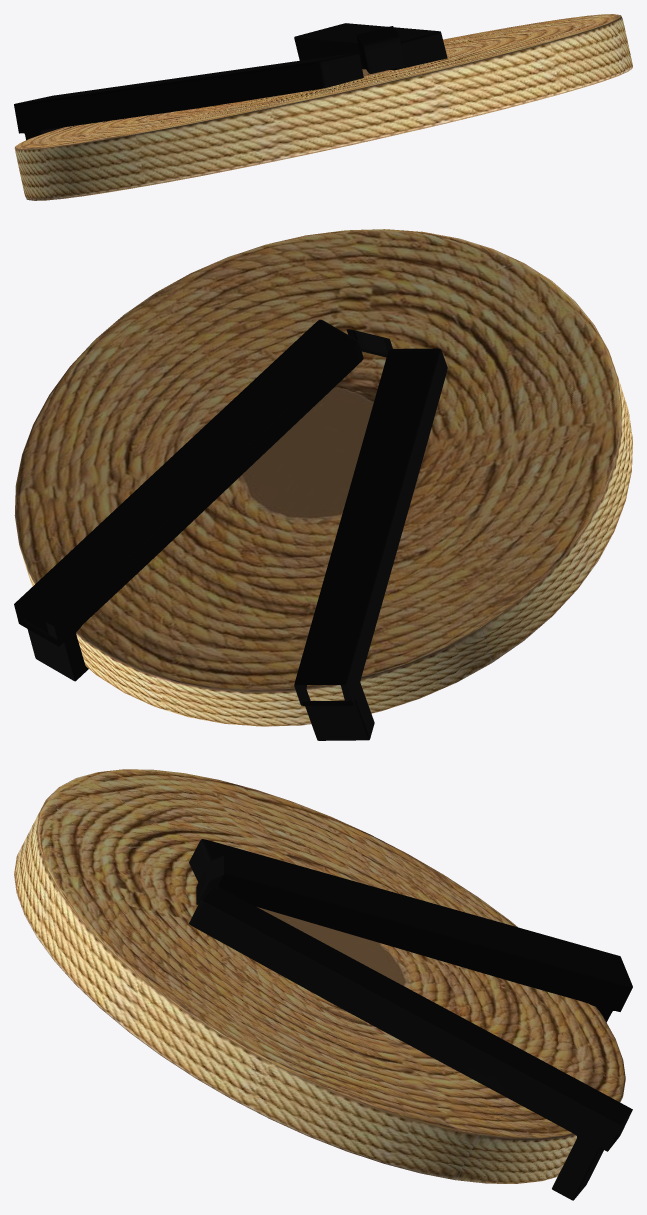
Rendered from Archer_Wood.fbx.
3 views of the same model, one above another, from view 1: azimuth 30°, elevation 25°; view 2: azimuth 150°, elevation 25°; view 3: azimuth 270°, elevation 25° (orthographic). The views are drawn at different scales.
Parts seen in each view (by area): view 1: 10480_Archery_target_v1_max2011_iteration-2; view 2: 10480_Archery_target_v1_max2011_iteration-2; view 3: 10480_Archery_target_v1_max2011_iteration-2.
Part boxes in pixels (x1,y1,x2,y2): 10480_Archery_target_v1_max2011_iteration-2: (14, 14, 632, 200); 10480_Archery_target_v1_max2011_iteration-2: (14, 229, 632, 740); 10480_Archery_target_v1_max2011_iteration-2: (14, 769, 632, 1200).
Bounding box in the file's own units: 7665 × 3818 × 7289.
